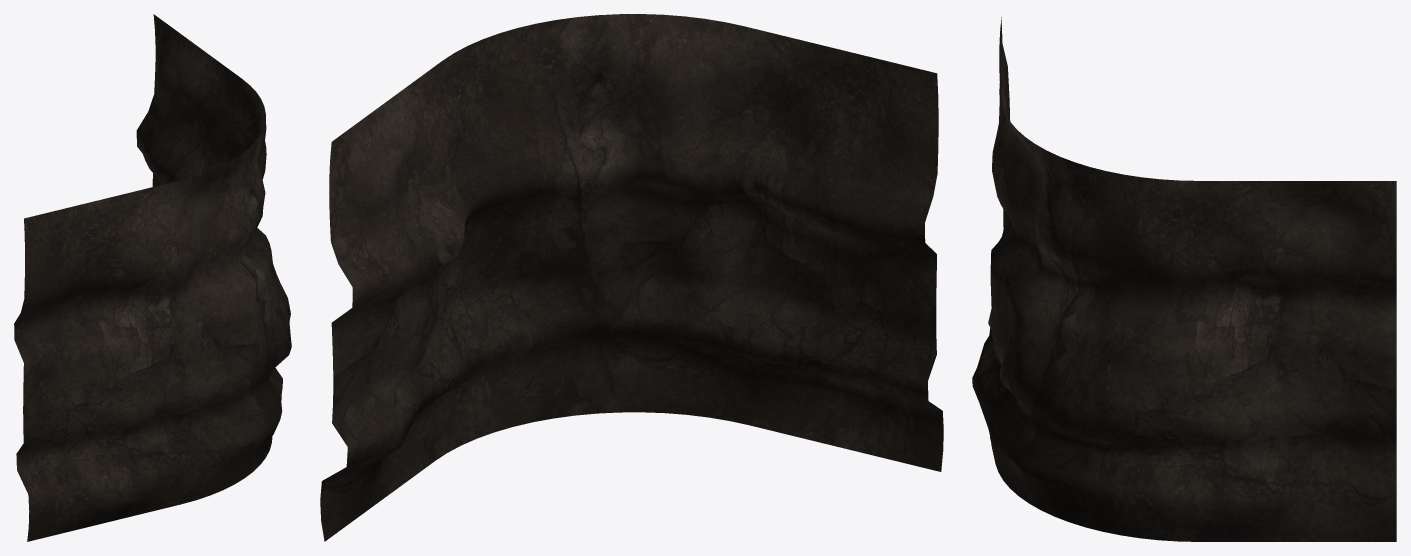
The model's file is cliff_wall_corner_inner_mid.glb.
3 views of the same model, side by side, from view 1: azimuth 30°, elevation 25°; view 2: azimuth 150°, elevation 25°; view 3: azimuth 270°, elevation 25° (orthographic). The views are drawn at different scales.
Parts seen in each view (by area): view 1: cliff_wall_corner_inner_mid; view 2: cliff_wall_corner_inner_mid; view 3: cliff_wall_corner_inner_mid.
Boxes of the visible parts, <box> form: cliff_wall_corner_inner_mid: <box>14,14,291,541</box>; cliff_wall_corner_inner_mid: <box>320,14,943,541</box>; cliff_wall_corner_inner_mid: <box>972,17,1396,541</box>.
Bounding box in the file's own units: 4.24 × 4 × 4.3.
Materials: 1 (1 with a texture image).
